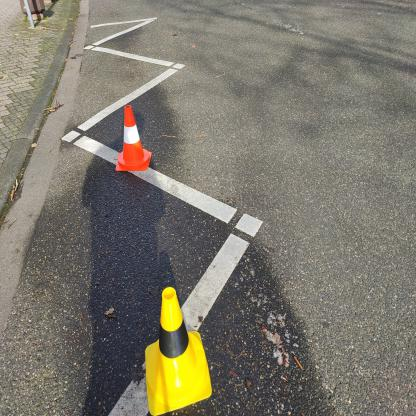Cones_small_orange: (115, 99, 151, 183)
Cones_small_yellow: (129, 276, 221, 415)
